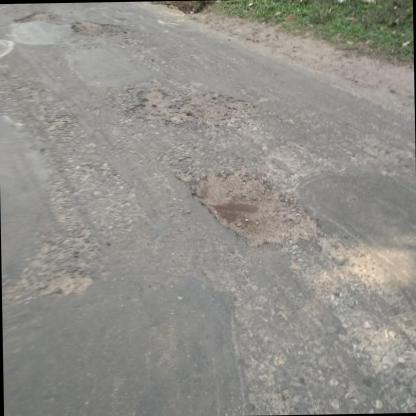pothole: (187, 164, 325, 250), (126, 86, 260, 127), (70, 16, 130, 40), (13, 8, 56, 26)
